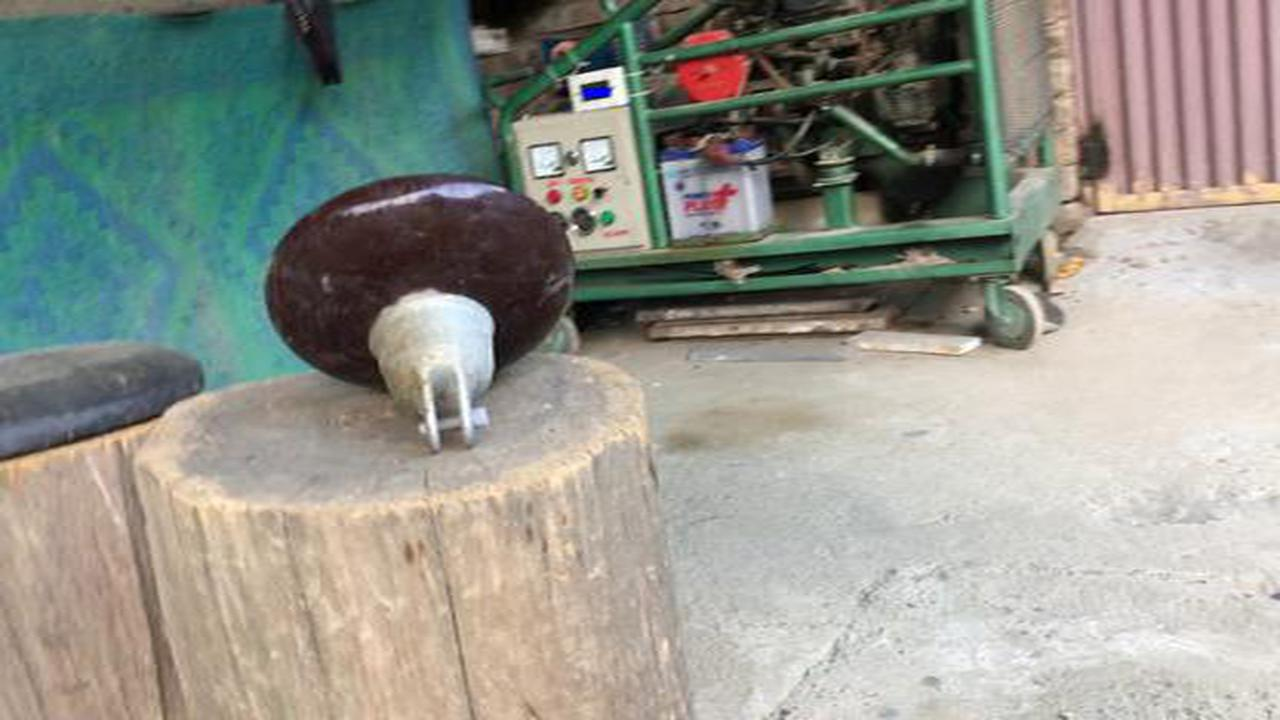insulator_disc: (255, 170, 582, 461)
